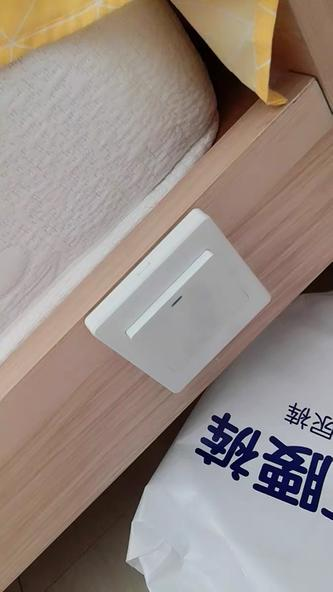switch: (111, 245, 258, 377)
